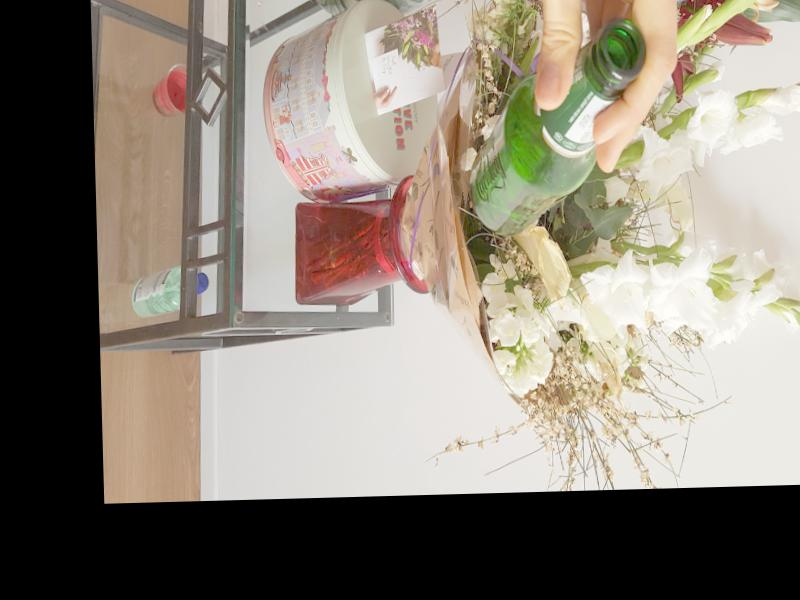Beer: (466, 21, 650, 234)
